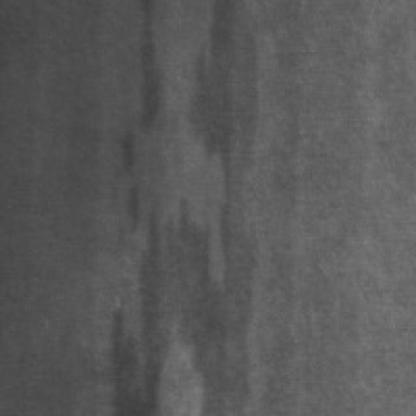inclusion: (96, 193, 243, 412), (185, 0, 264, 241), (102, 2, 164, 185)
